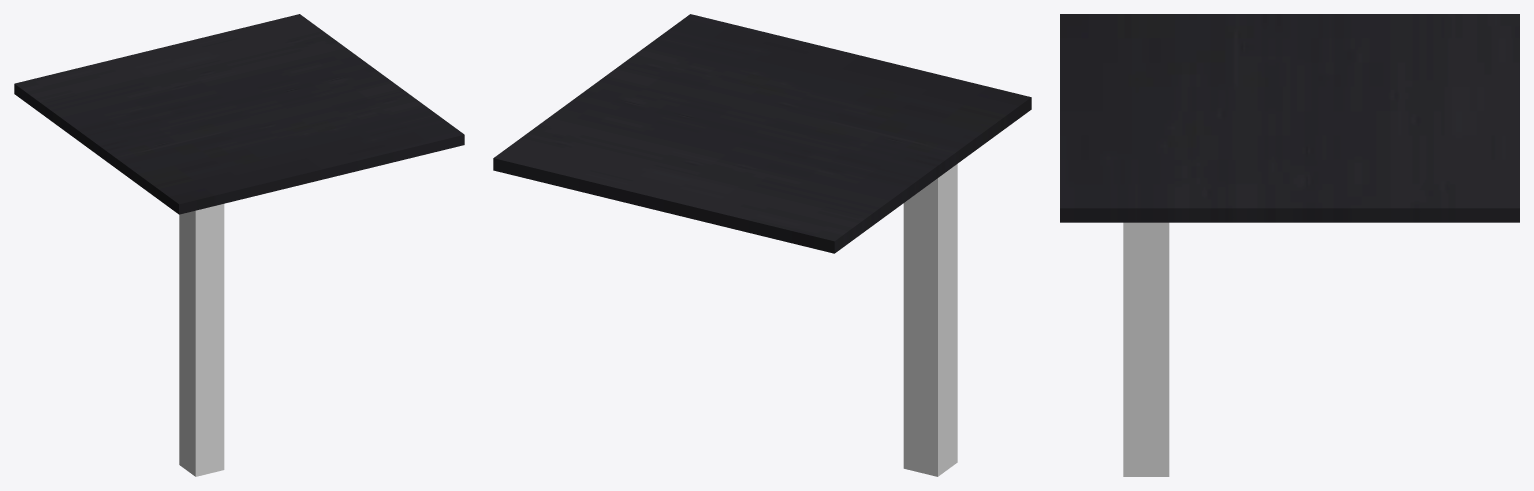
The model's file is sh-lp-raccordo80-w.glb.
The picture shows the model from 3 angles, left to right: view 1: azimuth 30°, elevation 25°; view 2: azimuth 150°, elevation 25°; view 3: azimuth 270°, elevation 25°; orthographic projection. The views are drawn at different scales.
Parts seen in each view (by area): view 1: Box36_2, Box37_1; view 2: Box36_2, Box37_1; view 3: Box36_2, Box37_1.
Boxes of the visible parts, <box> form: Box36_2: <box>14,14,464,214</box>; Box37_1: <box>179,204,224,476</box>; Box36_2: <box>493,14,1031,253</box>; Box37_1: <box>903,164,957,476</box>; Box36_2: <box>1060,14,1519,222</box>; Box37_1: <box>1123,222,1169,476</box>.
Size of the model in its own units: 1 by 1 by 1.
2 materials, 1 textured.
